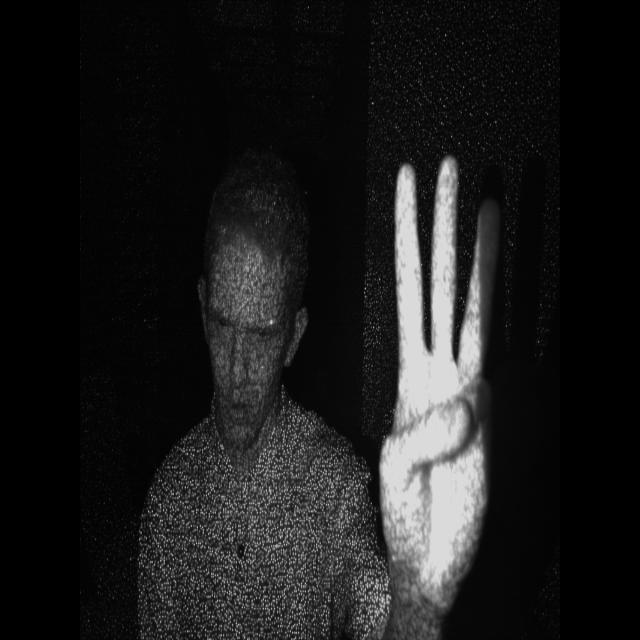W: (350, 143, 522, 612)
